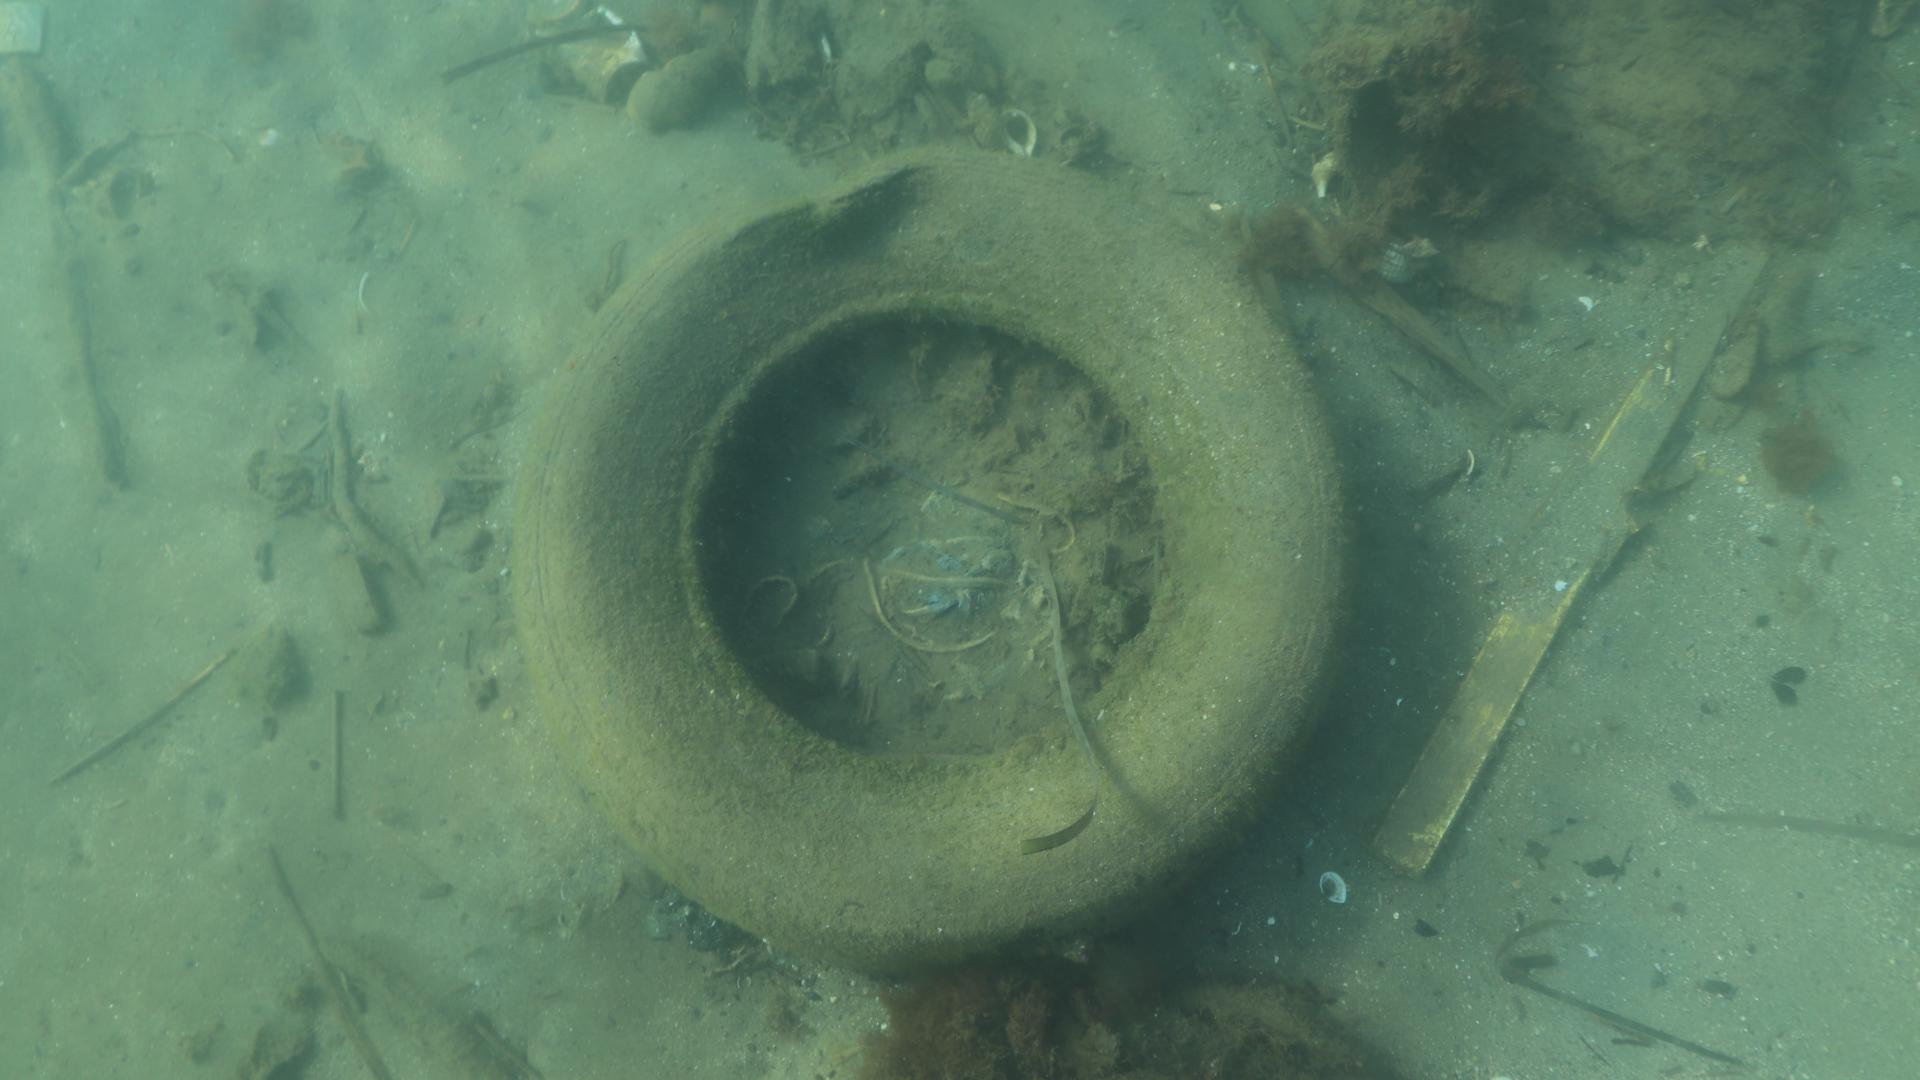tire: (506, 142, 1349, 976)
